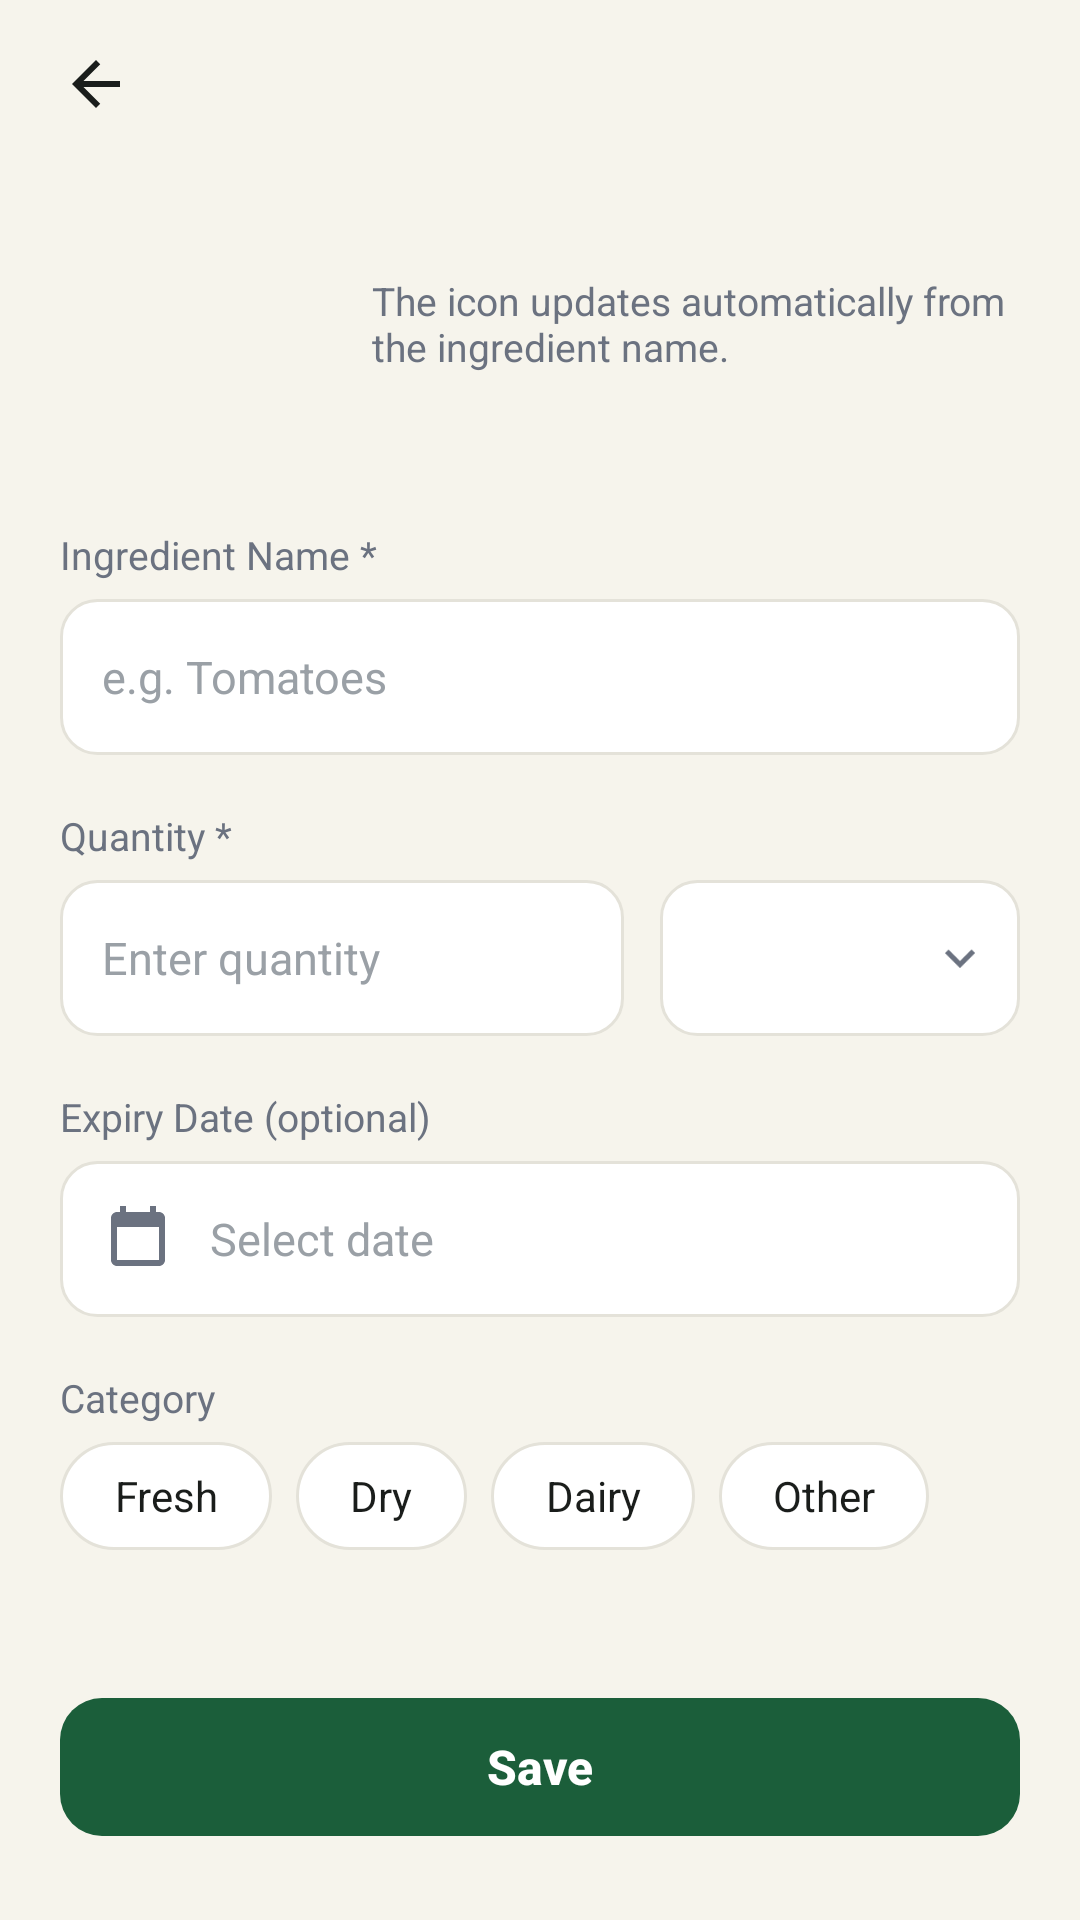

Icon click points for this 1080 × 1920 phone screenshot, format [x,y]:
Back: [96,84]
